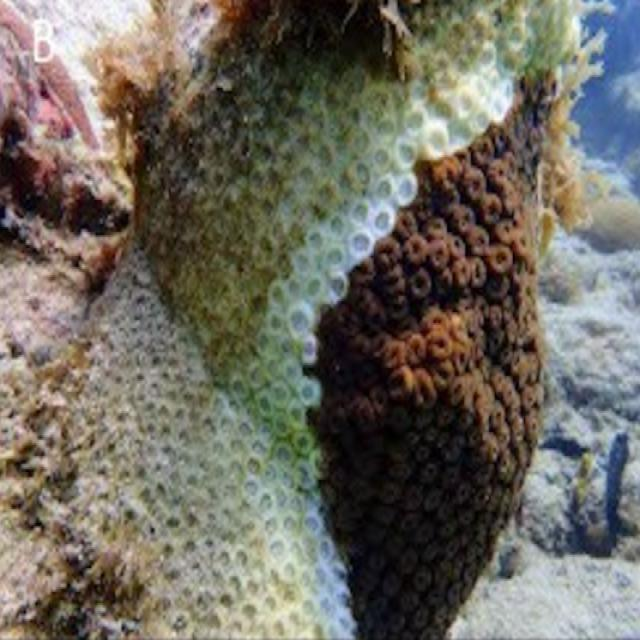Coral: (22, 0, 582, 640)
